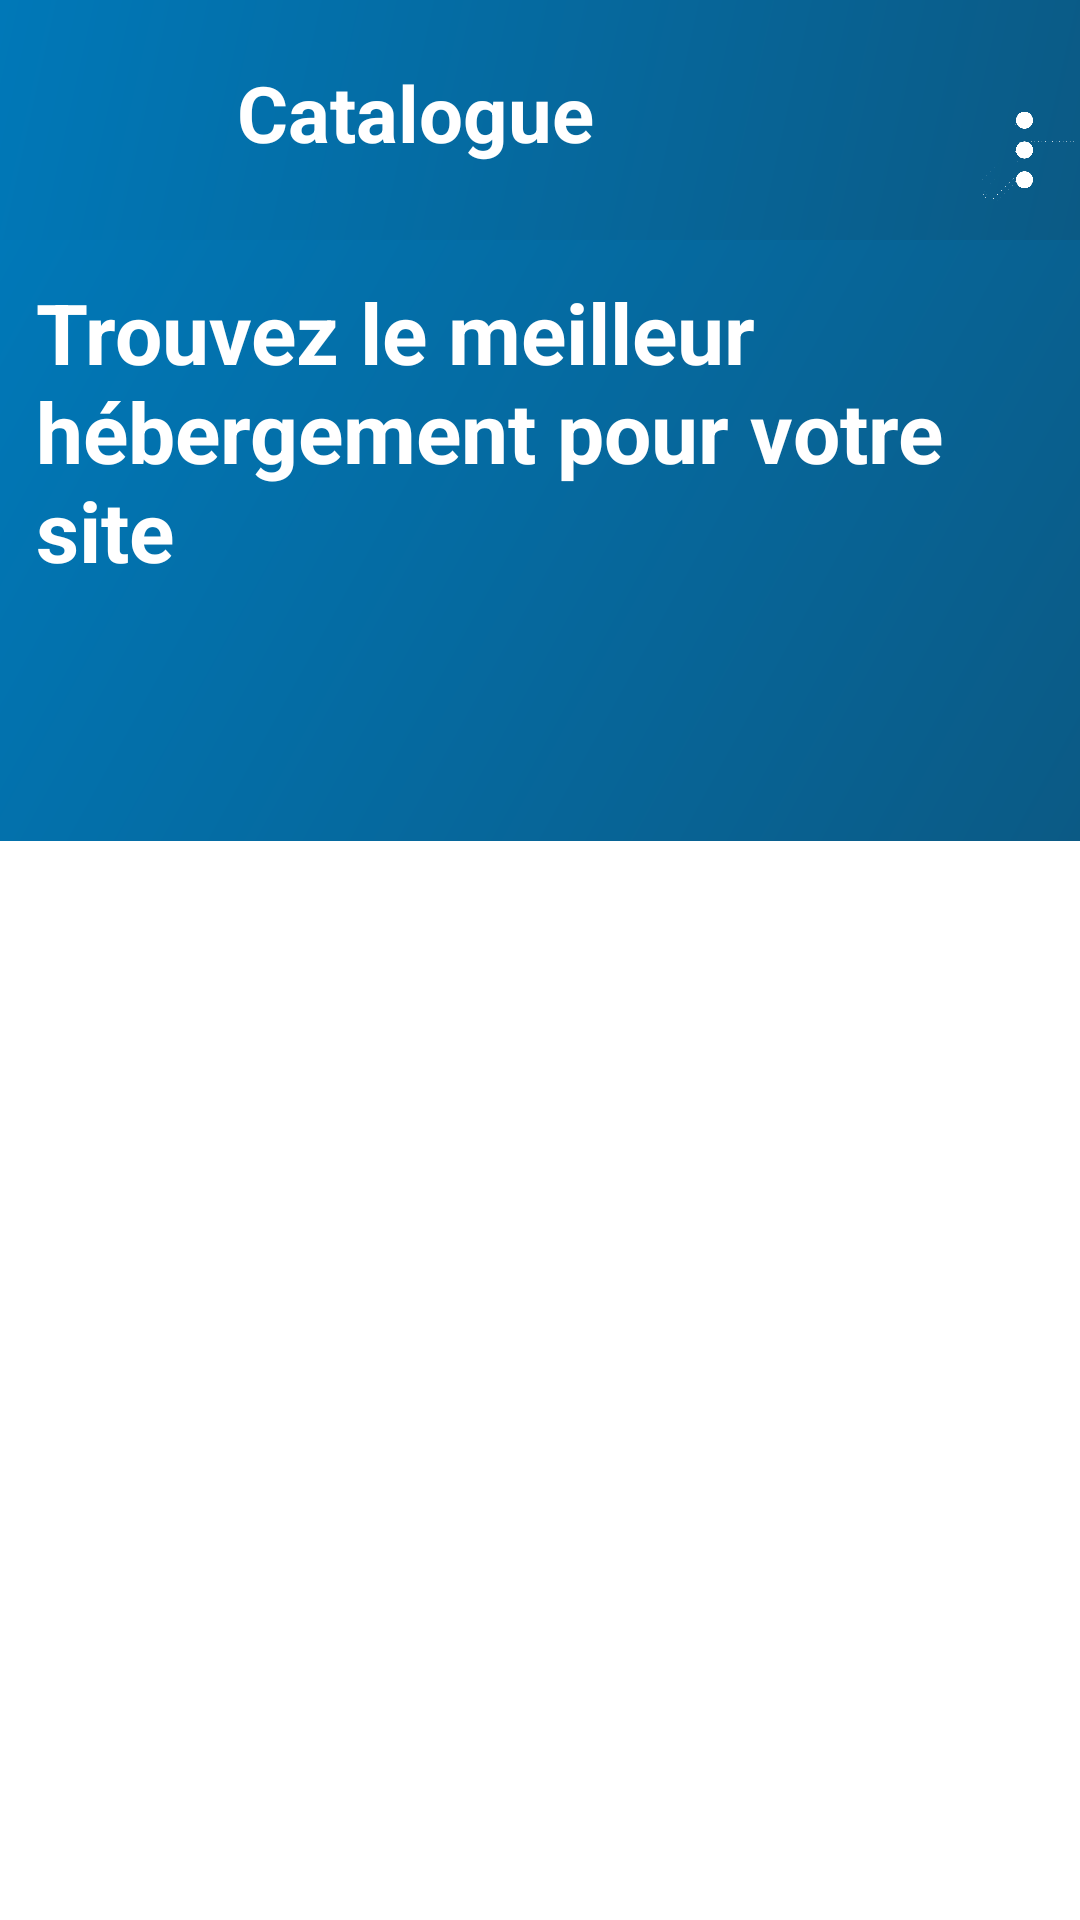

Screen size 1080 × 1920. Icon name, then its box in pixels as (x1, y1, x2, y2):
settings menu: (982, 112, 1074, 199)
